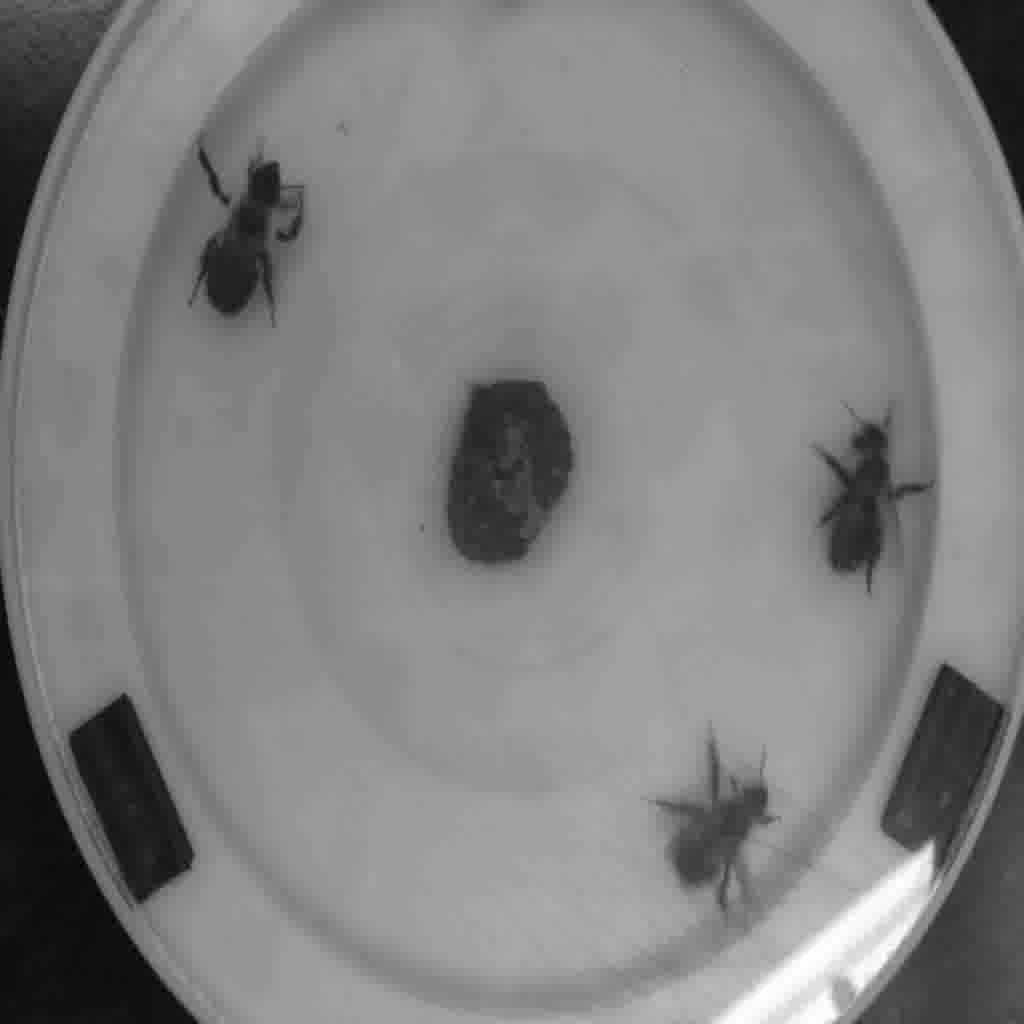bee: (783, 376, 959, 594), (180, 112, 322, 342), (660, 731, 796, 919)
